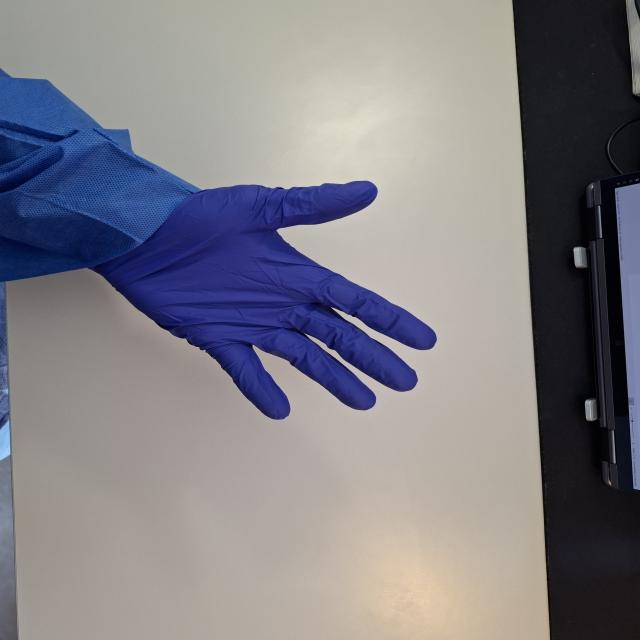glove_on: (90, 177, 440, 422)
